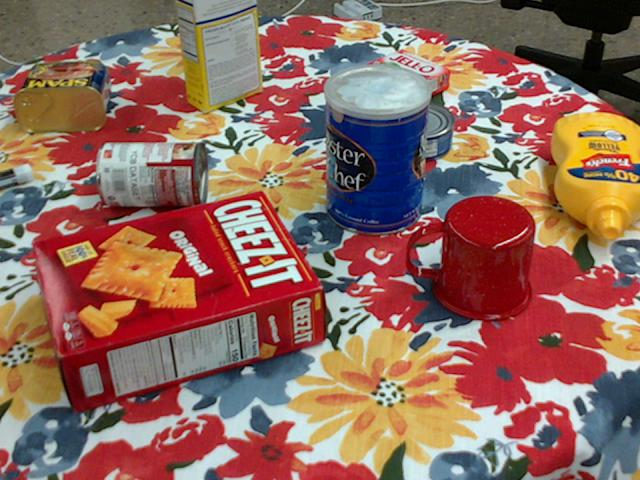cracker_box: (31, 192, 322, 413)
gelatin_box: (361, 51, 449, 107)
large_marker: (0, 163, 32, 188)
master_chef_can: (323, 64, 431, 237)
mug: (407, 195, 536, 322)
mustard_bottle: (550, 111, 639, 238)
potted_meat_can: (12, 60, 110, 131)
sugar_box: (176, 0, 262, 110)
tomato_soup_can: (94, 141, 205, 206)
tuna_fish_can: (380, 101, 455, 161)
